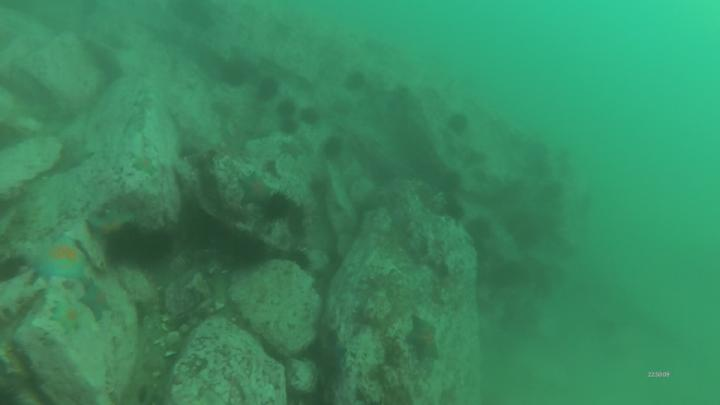echinus: (106, 222, 148, 263), (139, 228, 178, 265), (260, 191, 292, 223), (464, 215, 494, 243), (285, 247, 314, 271), (322, 137, 347, 164), (1, 253, 23, 283), (446, 112, 472, 136), (221, 66, 247, 90), (439, 169, 464, 193), (343, 70, 367, 94), (445, 198, 467, 224), (258, 77, 280, 103), (299, 105, 321, 128), (278, 115, 300, 137), (276, 96, 297, 118)
starfish: (32, 235, 91, 285), (408, 315, 444, 364), (76, 281, 115, 326), (48, 298, 90, 338), (85, 207, 139, 236), (238, 169, 273, 211), (313, 335, 349, 374), (130, 154, 161, 179), (279, 139, 306, 162)
